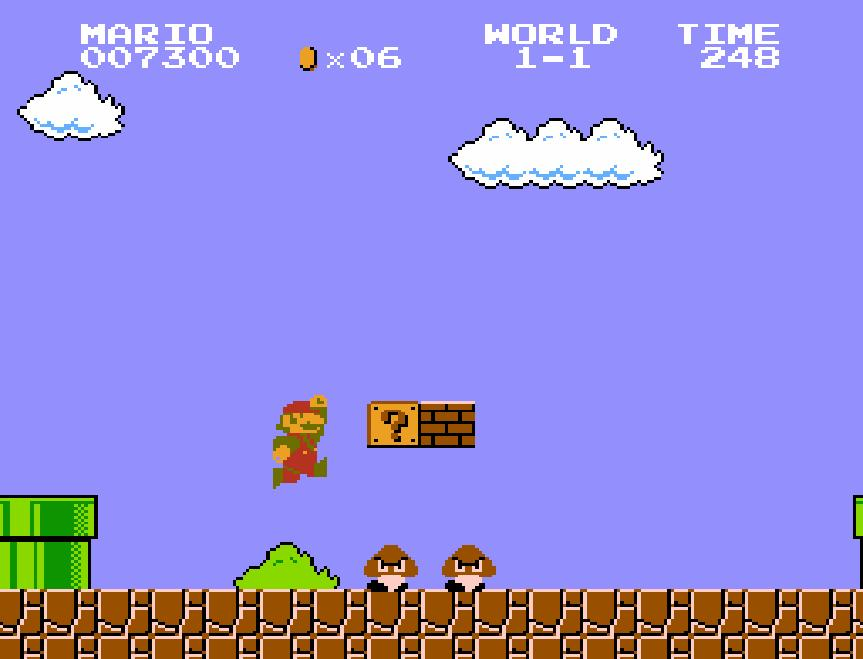big_mario: (270, 393, 328, 491)
